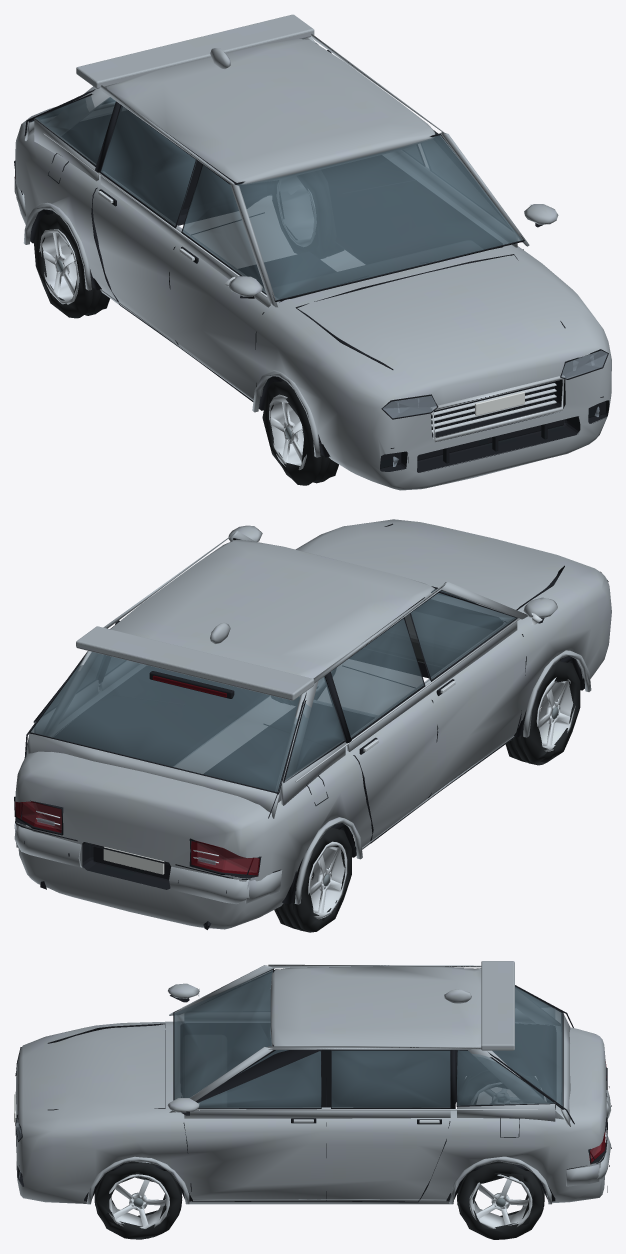
Rendered from car-hatch-lo.glb.
3 renders of one model, top to bottom at view 1: azimuth 30°, elevation 25°; view 2: azimuth 150°, elevation 25°; view 3: azimuth 270°, elevation 25°, orthographic. The views are drawn at different scales.
Parts seen in each view (by area): view 1: Aerodynamic mirror painted cap, Front side door glass, Aerodynamic mirror lower housing, Beltline satin bead, 107 reused Sculpted_tyre.001, Instrument panel, 107 reused Sculpted_tyre.003, 107 reused Sculpted_tyre.002, 107 reused Alloy_five_spoke_rim.003, 107 reused Alloy_five_spoke_rim.002, 107 reused Alloy_five_spoke_rim.001, Clear reversing lens insert (+1 smaller); view 2: Aerodynamic mirror painted cap, Front side door glass, Aerodynamic mirror lower housing, Instrument panel, Flush corner wrapping ruby lamp lens, 107 reused Sculpted_tyre.001, Beltline satin bead, 107 reused Sculpted_tyre.003, 107 reused Alloy_five_spoke_rim.003, 107 reused Alloy_five_spoke_rim.001, Front license plate; view 3: Aerodynamic mirror painted cap, Front side door glass, Aerodynamic mirror lower housing, 107 reused Sculpted_tyre.002, 107 reused Sculpted_tyre, Instrument panel, 107 reused Alloy_five_spoke_rim, 107 reused Alloy_five_spoke_rim.002, Beltline satin bead, 107 reused Sculpted_tyre.003.
Boxes of the visible parts, box(x1,y1,x2,y2) form: Aerodynamic mirror painted cap: box(14, 14, 611, 490); Front side door glass: box(32, 38, 521, 300); Aerodynamic mirror lower housing: box(20, 43, 609, 472); Beltline satin bead: box(43, 132, 564, 442); 107 reused Sculpted_tyre.001: box(262, 379, 338, 485); Instrument panel: box(272, 241, 482, 298); 107 reused Sculpted_tyre.003: box(34, 211, 109, 318); 107 reused Sculpted_tyre.002: box(272, 170, 343, 258); 107 reused Alloy_five_spoke_rim.003: box(39, 229, 79, 304); 107 reused Alloy_five_spoke_rim.002: box(277, 176, 315, 246); 107 reused Alloy_five_spoke_rim.001: box(269, 394, 306, 469); Clear reversing lens insert: box(382, 350, 607, 466); Aerodynamic mirror painted cap: box(14, 519, 611, 929); Front side door glass: box(31, 589, 515, 792); Aerodynamic mirror lower housing: box(15, 523, 584, 929); Instrument panel: box(364, 609, 492, 667); Flush corner wrapping ruby lamp lens: box(15, 675, 259, 875); 107 reused Sculpted_tyre.001: box(505, 659, 580, 765); Beltline satin bead: box(23, 613, 542, 871); 107 reused Sculpted_tyre.003: box(274, 827, 351, 932); 107 reused Alloy_five_spoke_rim.003: box(308, 841, 347, 919); 107 reused Alloy_five_spoke_rim.001: box(536, 677, 575, 751); Front license plate: box(103, 847, 164, 874); Aerodynamic mirror painted cap: box(16, 961, 610, 1204); Front side door glass: box(174, 969, 562, 1108); Aerodynamic mirror lower housing: box(15, 968, 611, 1202); 107 reused Sculpted_tyre.002: box(457, 1161, 544, 1239); 107 reused Sculpted_tyre: box(94, 1161, 182, 1239); Instrument panel: box(183, 1035, 226, 1106); 107 reused Alloy_five_spoke_rim: box(108, 1174, 169, 1228); 107 reused Alloy_five_spoke_rim.002: box(469, 1174, 532, 1228); Beltline satin bead: box(15, 988, 606, 1157); 107 reused Sculpted_tyre.003: box(458, 1070, 543, 1104).
Bounding box in the file's own units: 2.1 × 1.58 × 4.26.
Materials: 10 (10 with a texture image).
